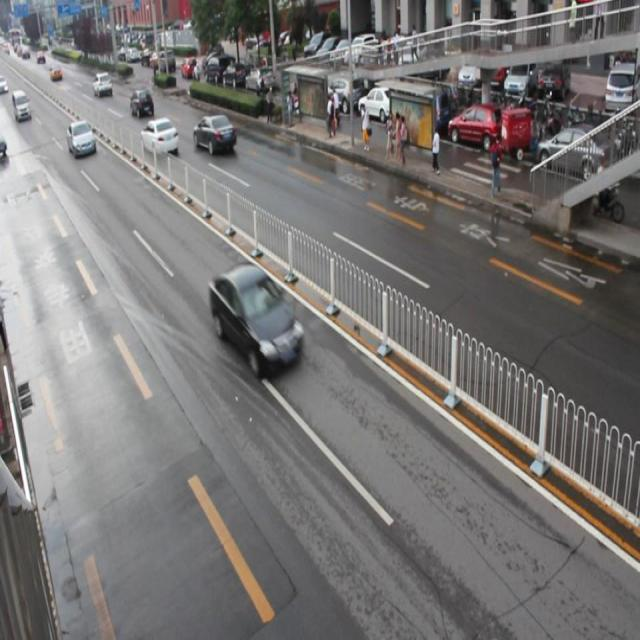car: (209, 261, 304, 373), (194, 112, 238, 155), (140, 116, 180, 158), (68, 118, 98, 162), (130, 87, 154, 116)
